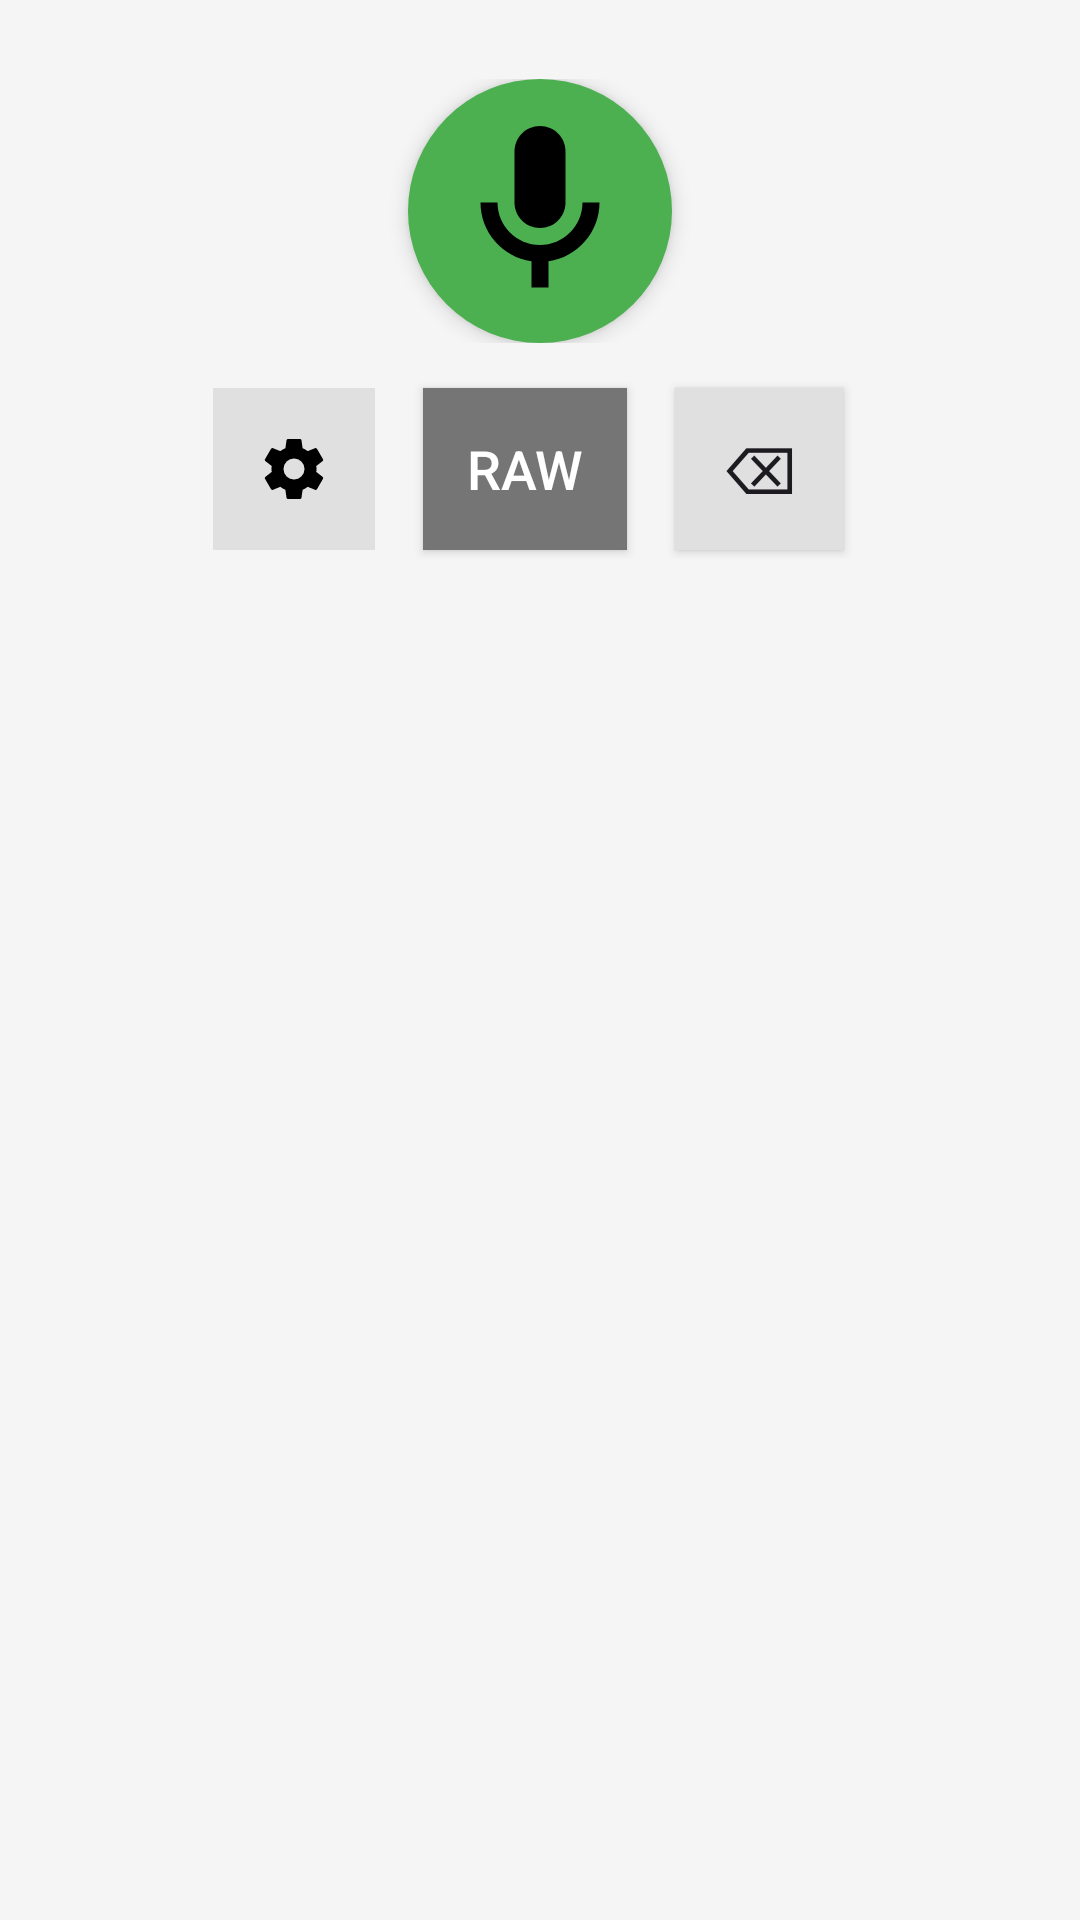

Icon bounding boxes for this 1080 x 1920 phone screenshot, format bbox=[x1, y1, x2, y2]:
Microphone: bbox=[408, 79, 672, 343]
Settings: bbox=[264, 439, 324, 499]
